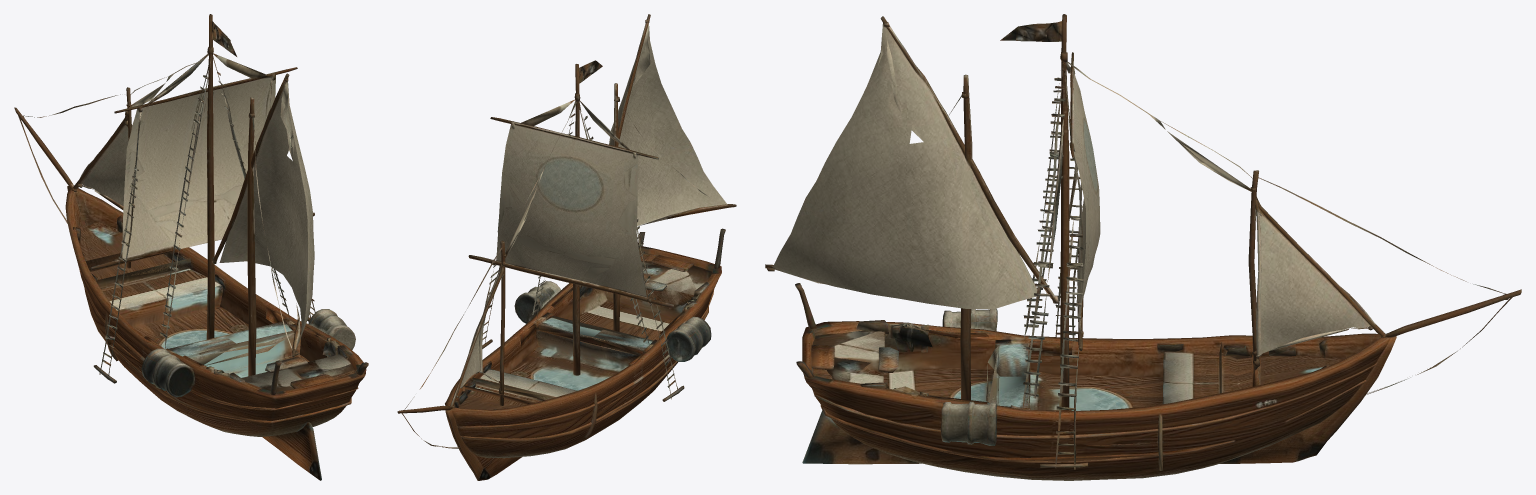
The model's file is cargo-lighter.glb.
The picture shows the model from 3 angles, left to right: view 1: azimuth 30°, elevation 25°; view 2: azimuth 150°, elevation 25°; view 3: azimuth 270°, elevation 25°; orthographic projection. The views are drawn at different scales.
Parts seen in each view (by area): view 1: cargo-lighter_LOD0; view 2: cargo-lighter_LOD0; view 3: cargo-lighter_LOD0.
Boxes of the visible parts, box(x1,y1,x2,y2) form: cargo-lighter_LOD0: box(14, 14, 368, 480); cargo-lighter_LOD0: box(397, 14, 736, 480); cargo-lighter_LOD0: box(765, 14, 1521, 480).
Size of what is drawn, in the model's own units: 0.399 by 0.6566 by 1.
Materials: 1 (1 with a texture image).
